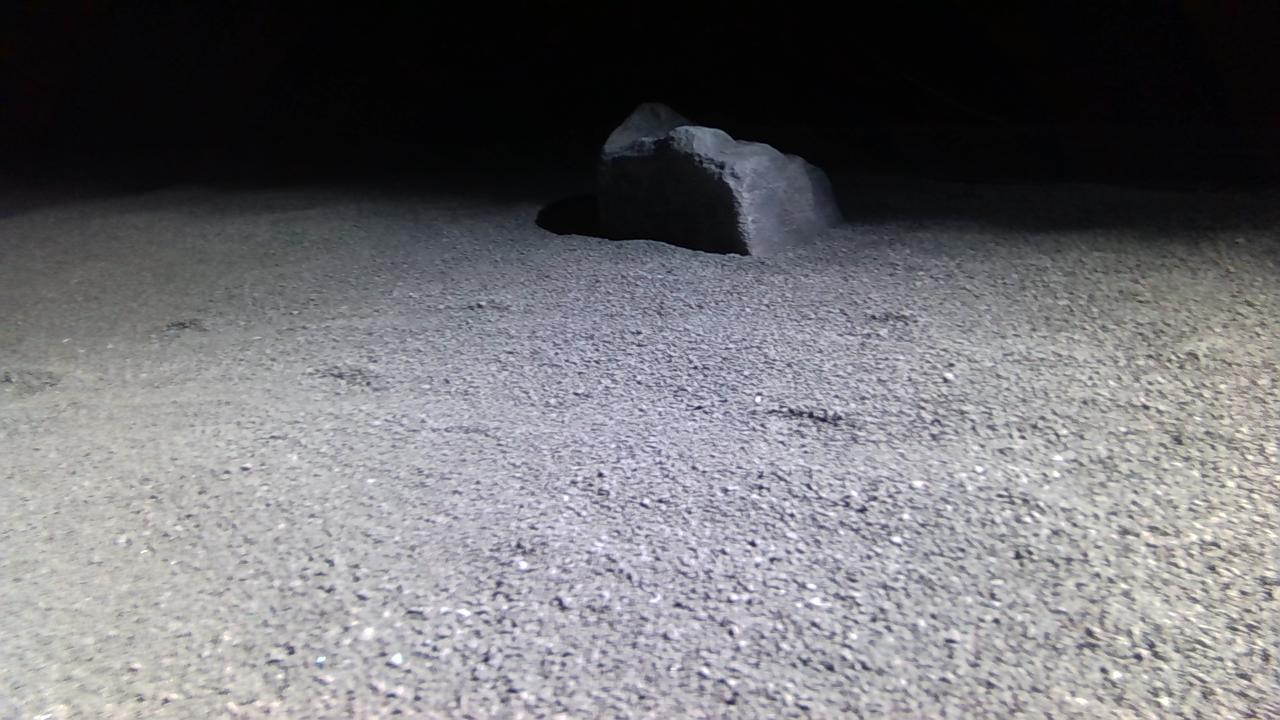rock: (599, 103, 842, 256)
